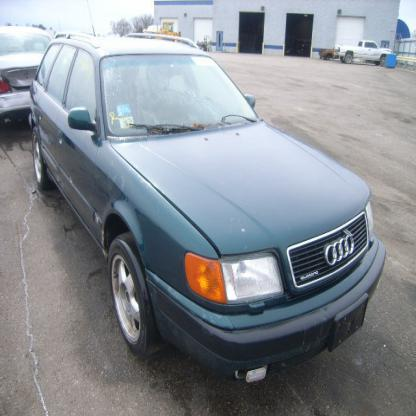car: (29, 34, 386, 385)
